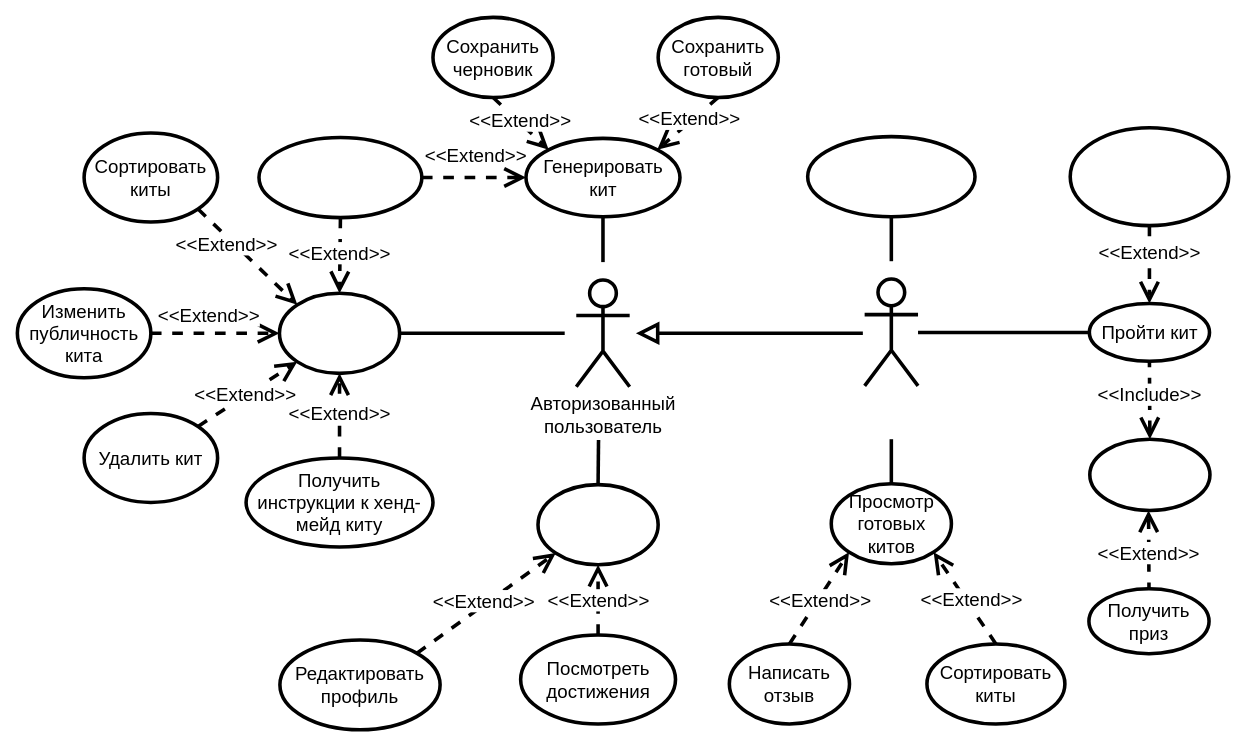
This 1245x747 diagram has some shape labels left out. Here are the shapes that lost their labels. From the top down, the centre of each, then its label:
(340,177): Сгенерировать ссылку
(890,176): Авторизоваться
(1149,176): Сохранить процесс прохождения
(339,333): Просмотр карты
(890,332): Неавторизованный пользователь
(1149,474): Получить итог
(597,524): Просмотр профиля
